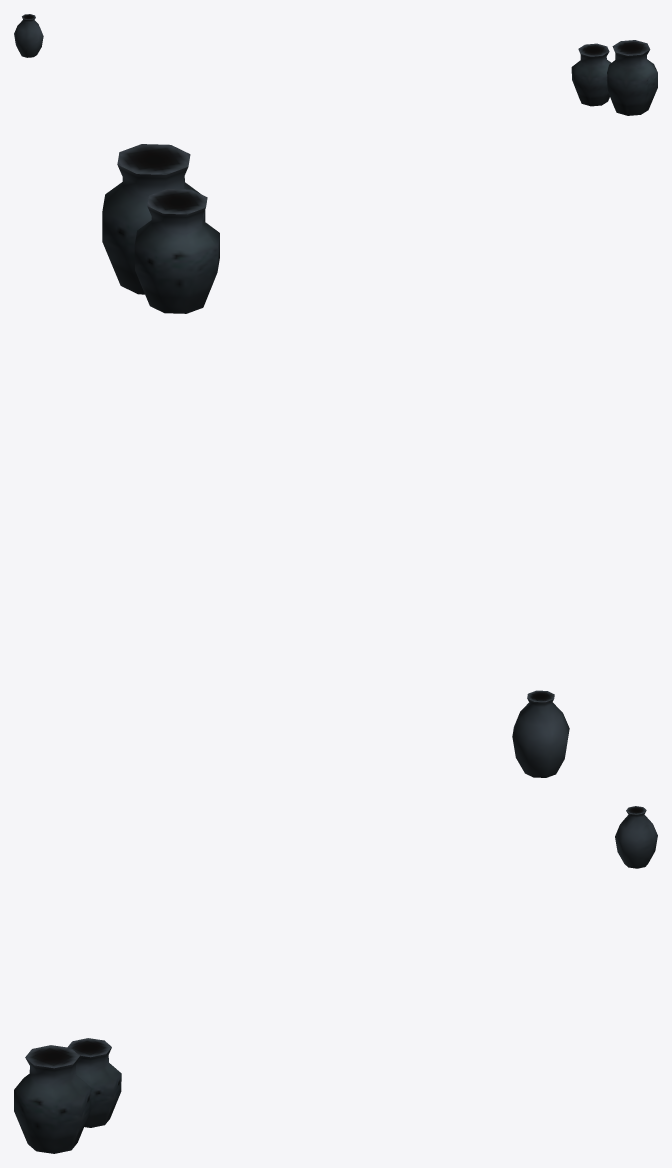
Rendered from Area08_23.fbx.
3 views of the same model, one above another, from view 1: azimuth 30°, elevation 25°; view 2: azimuth 150°, elevation 25°; view 3: azimuth 270°, elevation 25° (orthographic). The views are drawn at different scales.
Visible parts, largest first — view 1: Area08_23; view 2: Area08_23; view 3: Area08_23.
Part boxes in pixels (x1,y1,x2,y2): Area08_23: (14,14,657,115); Area08_23: (102,144,569,777); Area08_23: (14,806,657,1153).
Bounding box in the file's own units: 936 × 125 × 841.
